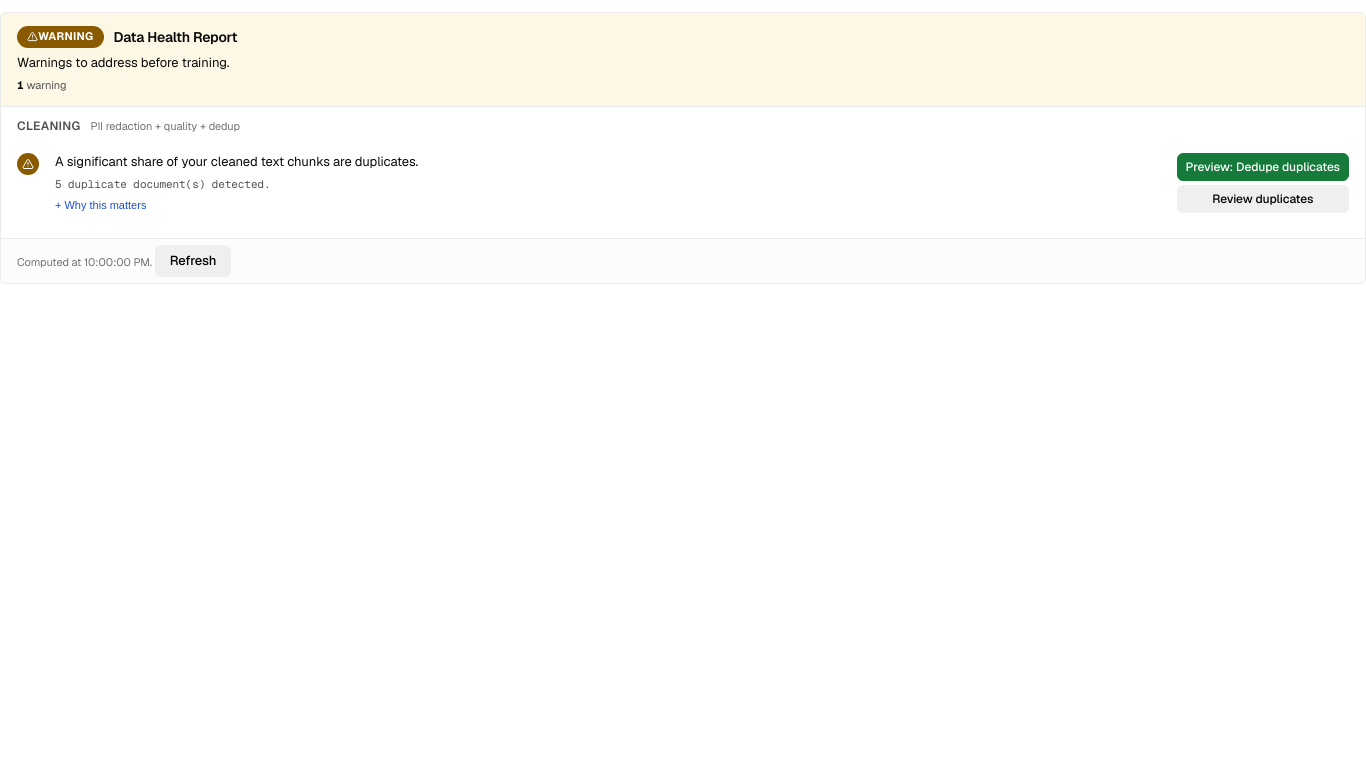
Test case: DataHealthReportPanel › shows an autofix button on signals with autofix_kind and opens the preview modal
The width and height of the screenshot is (1366, 768).
# Click opens the preview modal (no window.confirm).
Click the button with test id "data-health-autofix-cleaning.duplicate_chunks".
click(1263, 167)  # box [1177,153,1349,181]
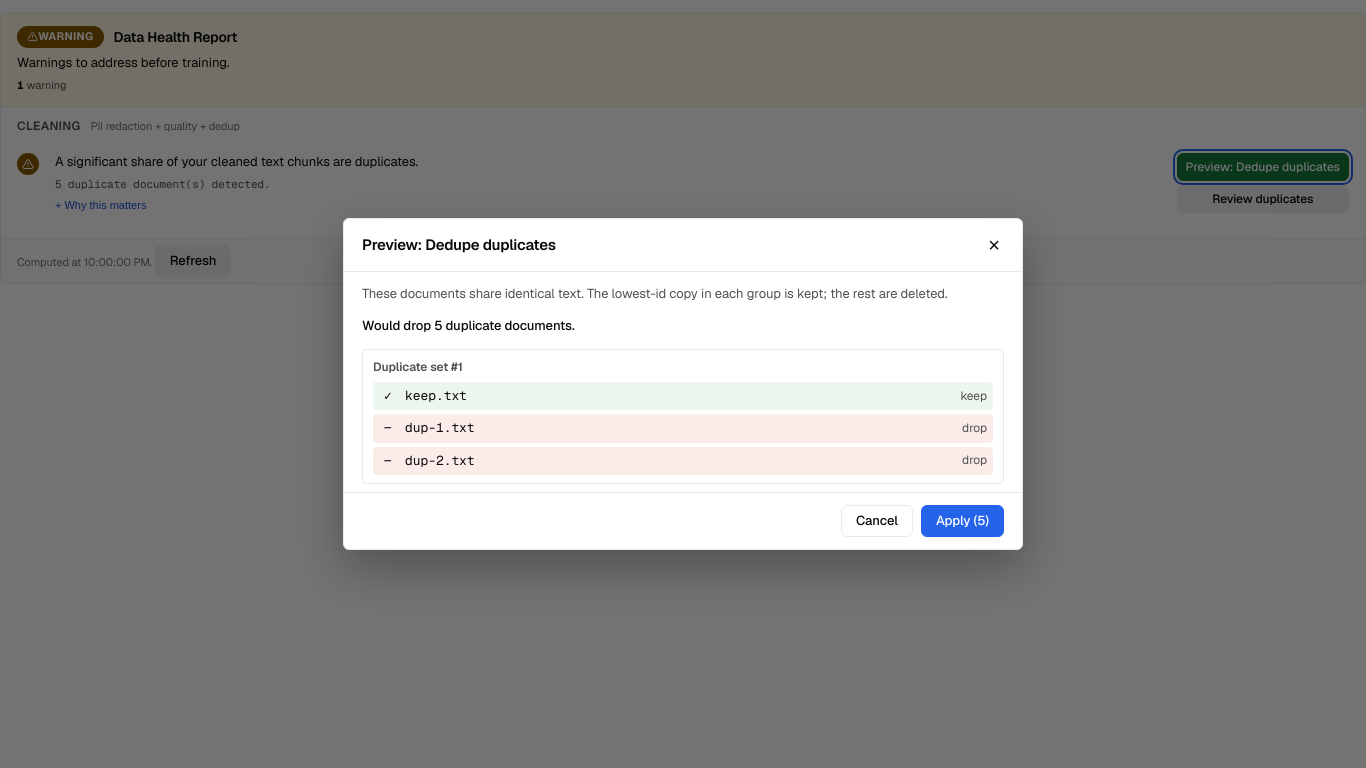
Check: the dialog with test id "autofix-modal" is shown, box [343,218,1023,550]
Check: the list with test id "autofix-modal-list" is shown, box [362,349,1004,492]
Check: the dialog with test id "autofix-modal" shows "keep.txt", box [405,387,467,404]
# User clicks Apply — only now does the destructive POST fire.
Click the button with test id "autofix-modal-apply".
click(962, 521)  # box [921,505,1004,537]
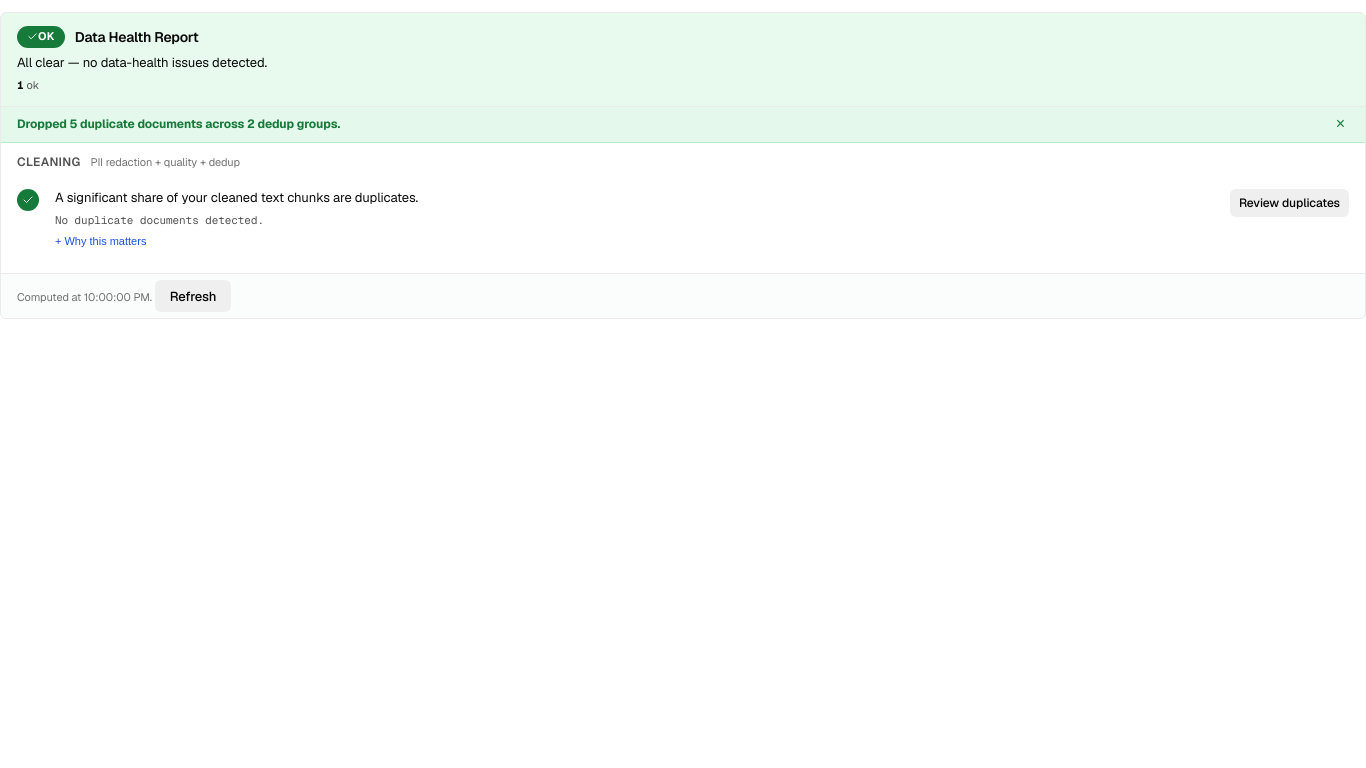
Check: the dialog with test id "autofix-modal" is gone
Check: the message with test id "data-health-fix-toast" shows "Dropped 5 duplicate documents", box [17,116,340,132]
